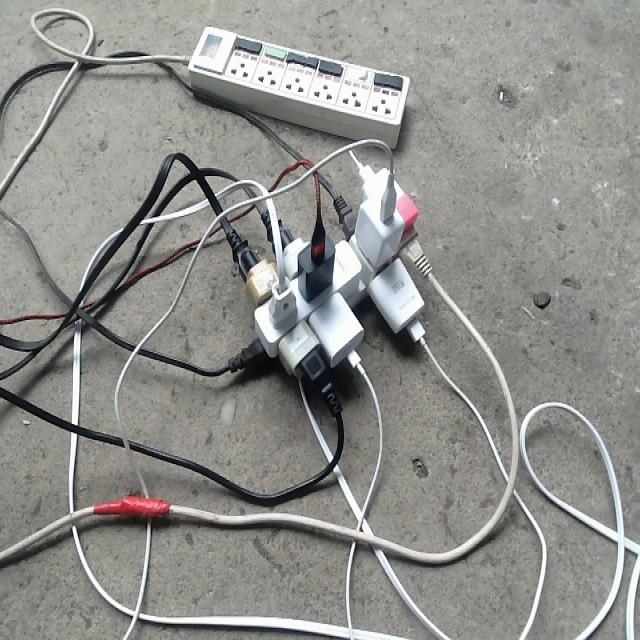-: (233, 167, 421, 393)
